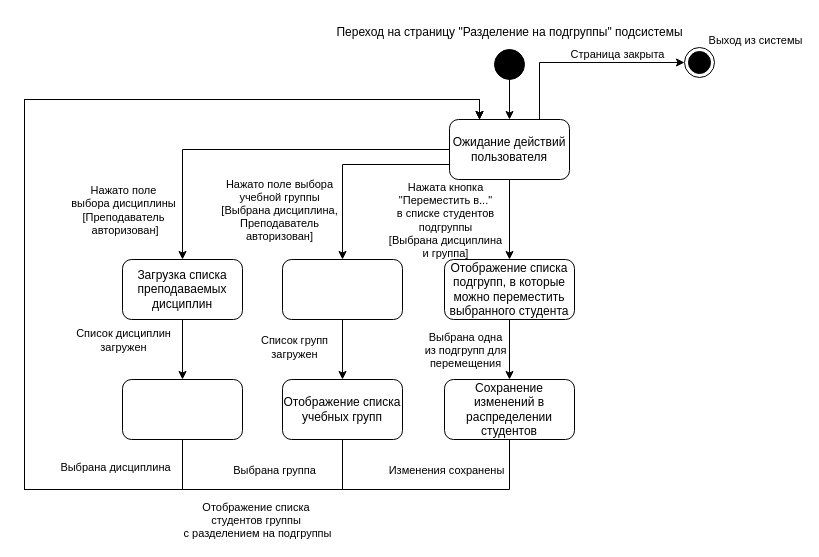
This 819x557 diagram has some shape labels left out. Each missing label, with the centre of its shape:
"Загрузка списка учебных групп" belongs at point 342,289.
"Отображение списка преподаваемых дисциплин" belongs at point 182,409.
